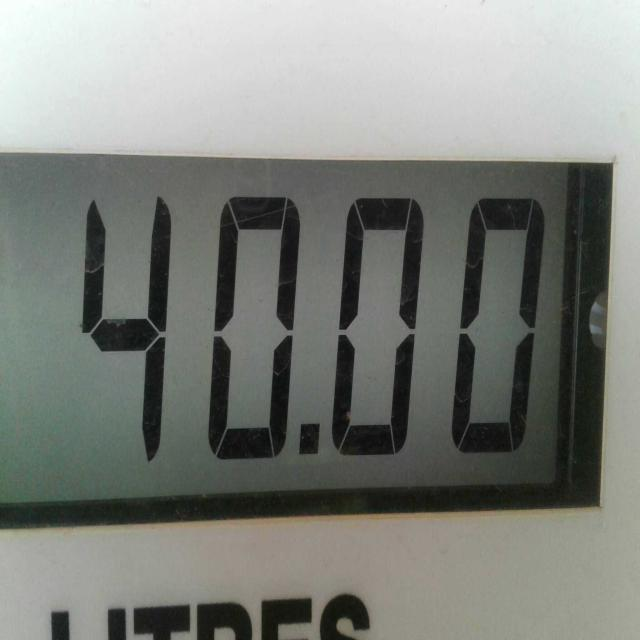.: (294, 402, 331, 482)
0: (195, 183, 315, 486), (442, 183, 554, 496), (324, 187, 433, 461)
4: (68, 187, 190, 472)
